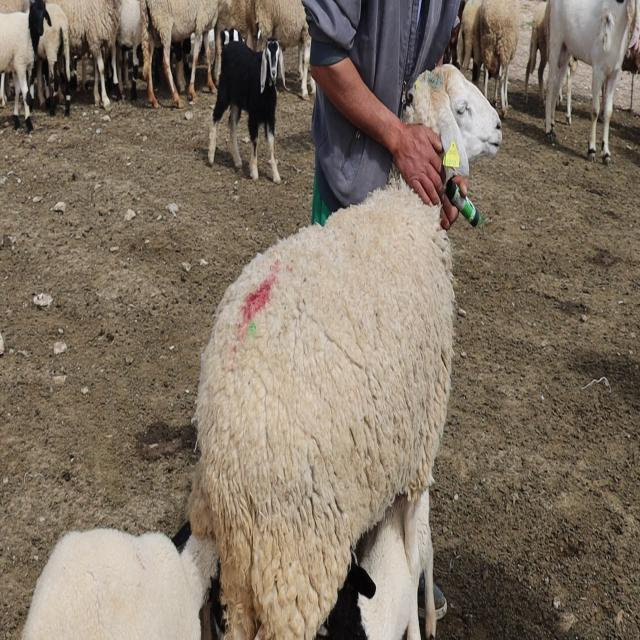Score_4: (188, 186, 454, 639)
